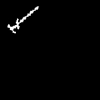double_crochet: (8, 7, 37, 32)
